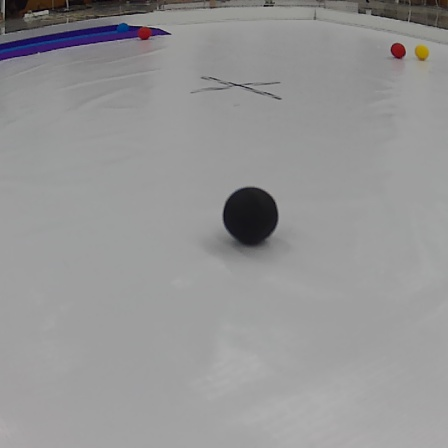black: (220, 181, 282, 251)
blue: (116, 22, 128, 35)
blue_aim: (0, 22, 183, 63)
red: (388, 39, 407, 60), (135, 25, 152, 40)
yellow: (415, 44, 430, 62)
